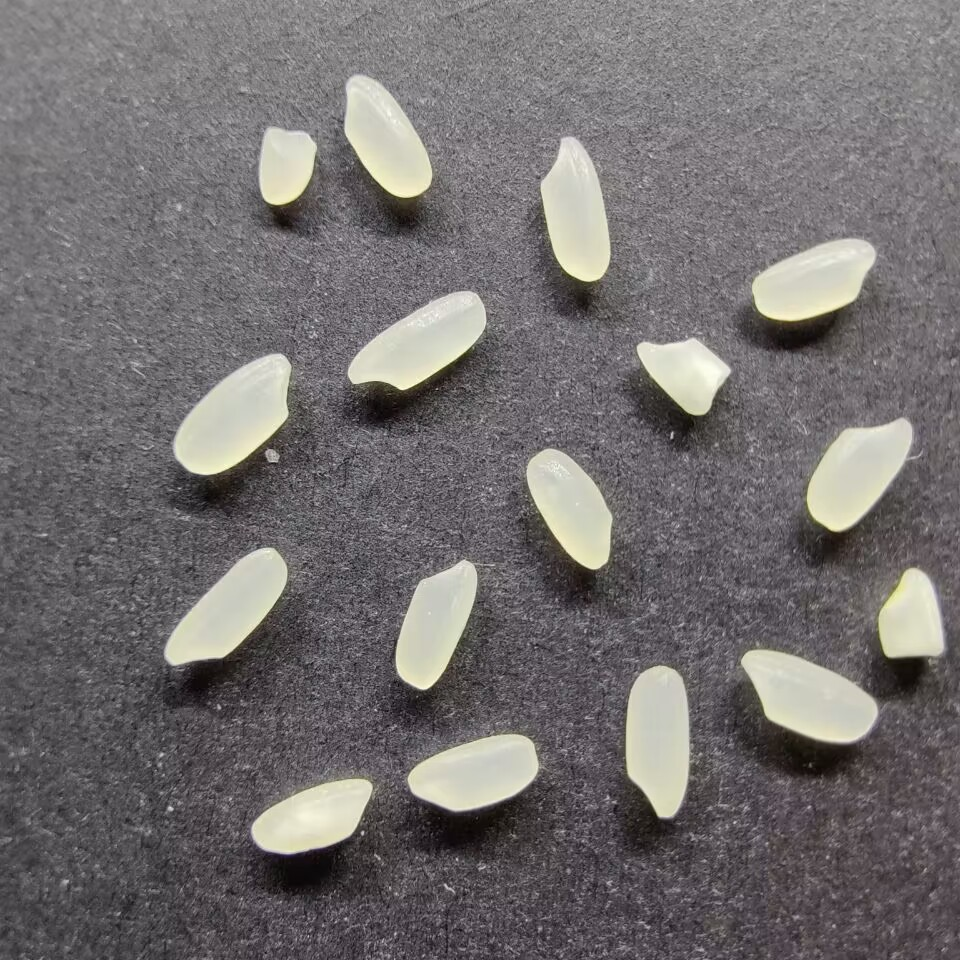broken: (634, 334, 733, 420), (875, 566, 946, 661), (256, 126, 316, 206)
rice: (161, 545, 289, 668), (172, 351, 293, 476), (345, 289, 487, 392), (737, 646, 879, 745), (804, 416, 917, 533), (392, 555, 478, 691), (341, 73, 433, 199), (524, 447, 615, 570), (406, 730, 539, 813), (537, 135, 612, 282), (750, 236, 878, 322), (622, 663, 691, 821), (248, 773, 372, 856)
